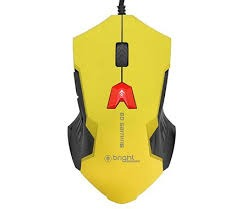mouse: (57, 17, 186, 199)
